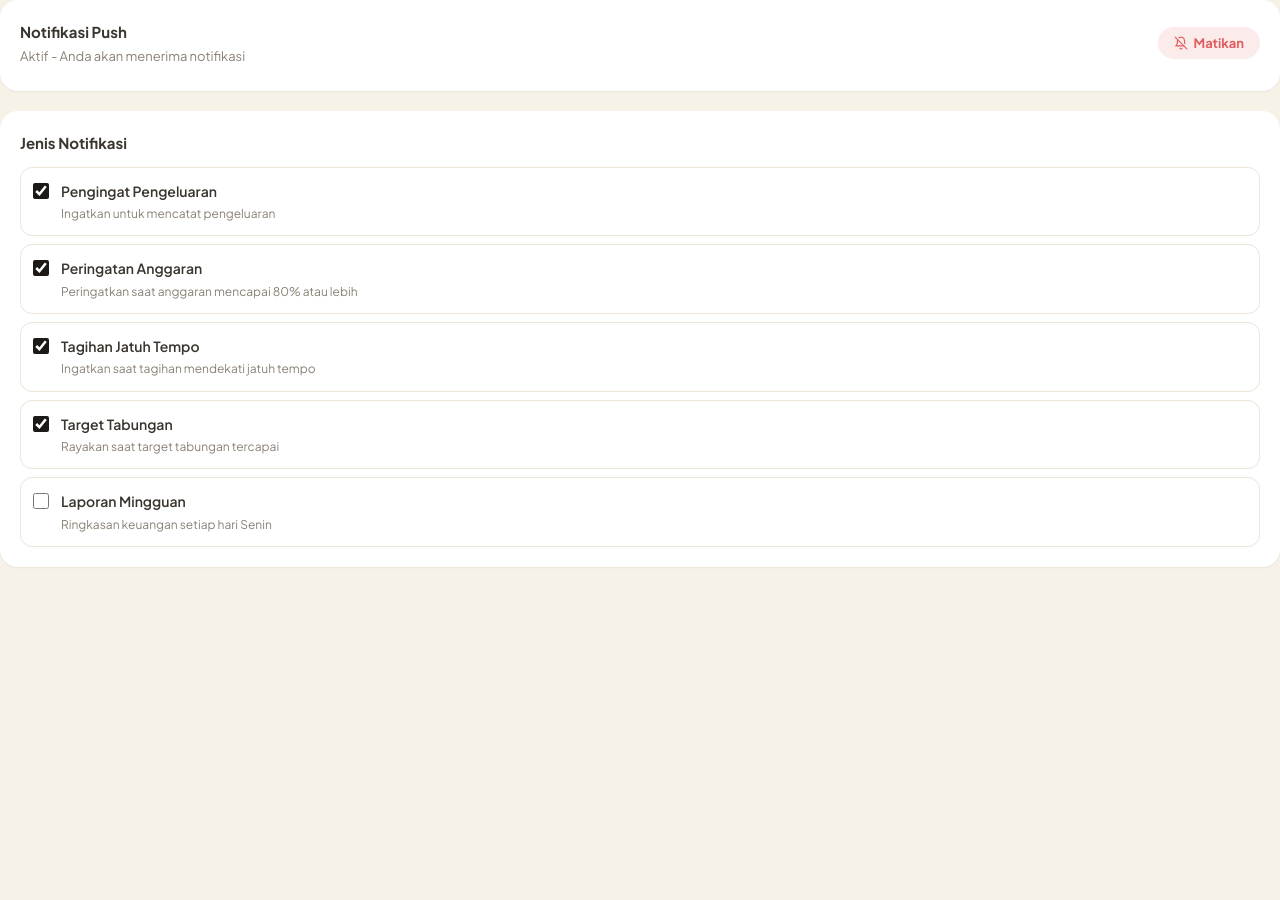
Test: NotificationPreferences › shows an error message when updating a preference fails
Click the checkbox labelled "Laporan Mingguan Ringkasan keuangan setiap hari Senin": (41, 501) [33,493,49,509]
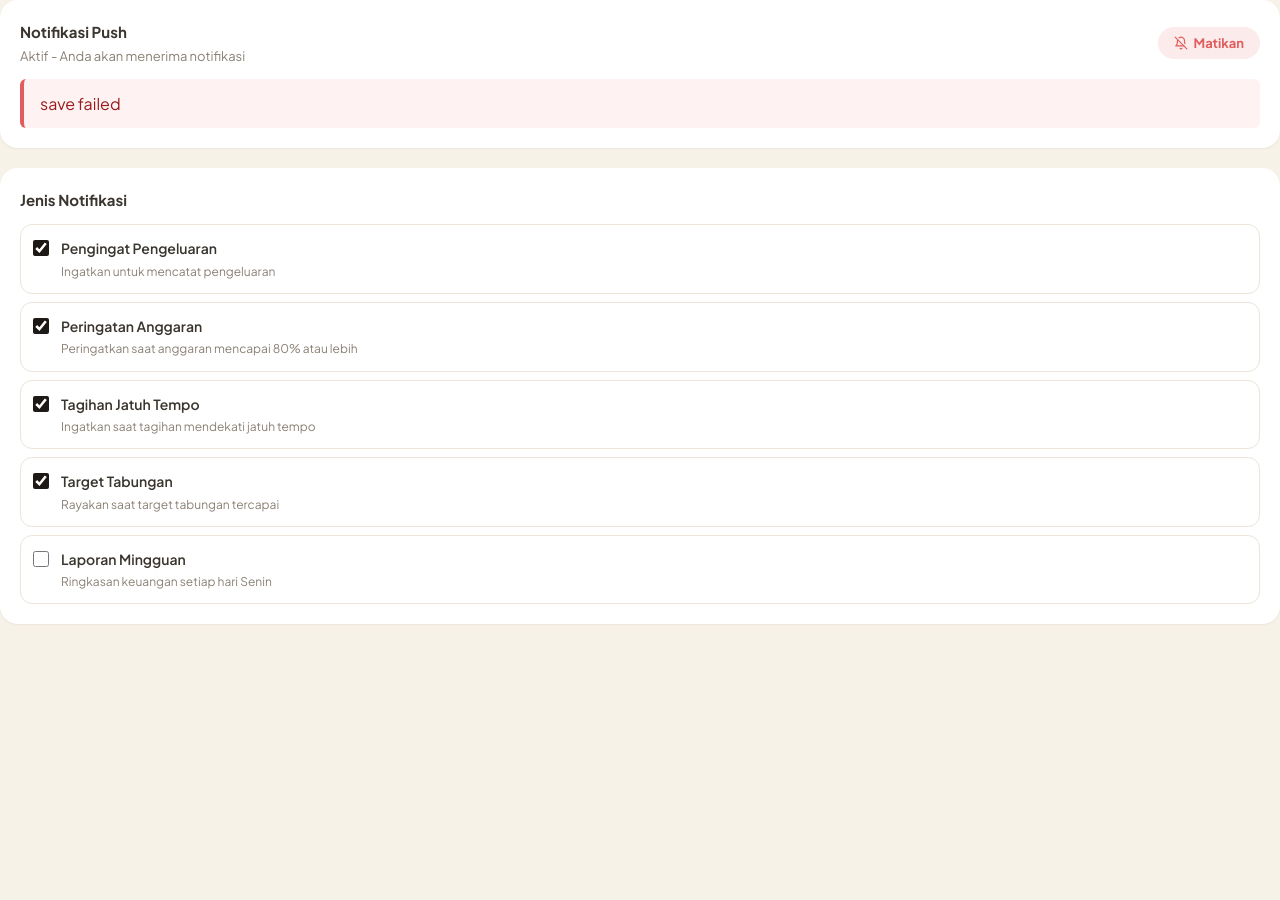
Expected: the text "save failed" is shown, [20,79,1260,128]
